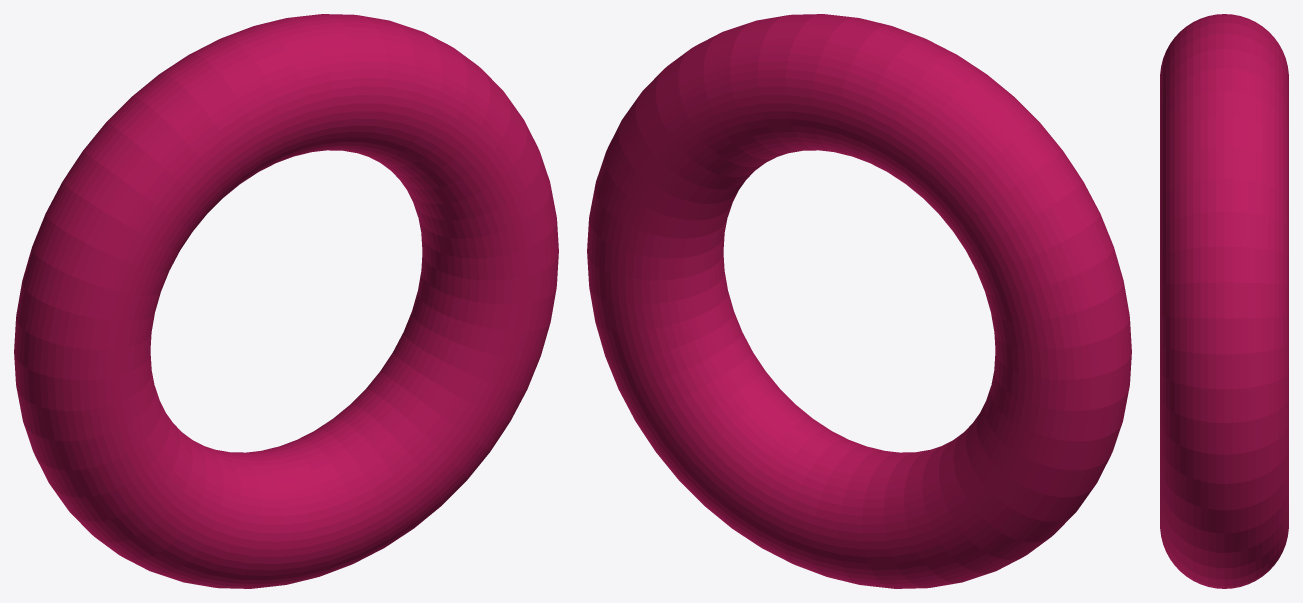
3 renders of one model, left to right at view 1: azimuth 30°, elevation 25°; view 2: azimuth 150°, elevation 25°; view 3: azimuth 270°, elevation 25°, orthographic. The views are drawn at different scales.
Parts seen in each view (by area): view 1: world; view 2: world; view 3: world.
Boxes of the visible parts, left/top/right/bottom form: world: left=14, top=14, right=558, bottom=588; world: left=587, top=14, right=1131, bottom=588; world: left=1160, top=14, right=1288, bottom=588.
Bounding box in the file's own units: 32.67 × 32.6 × 7.32.
